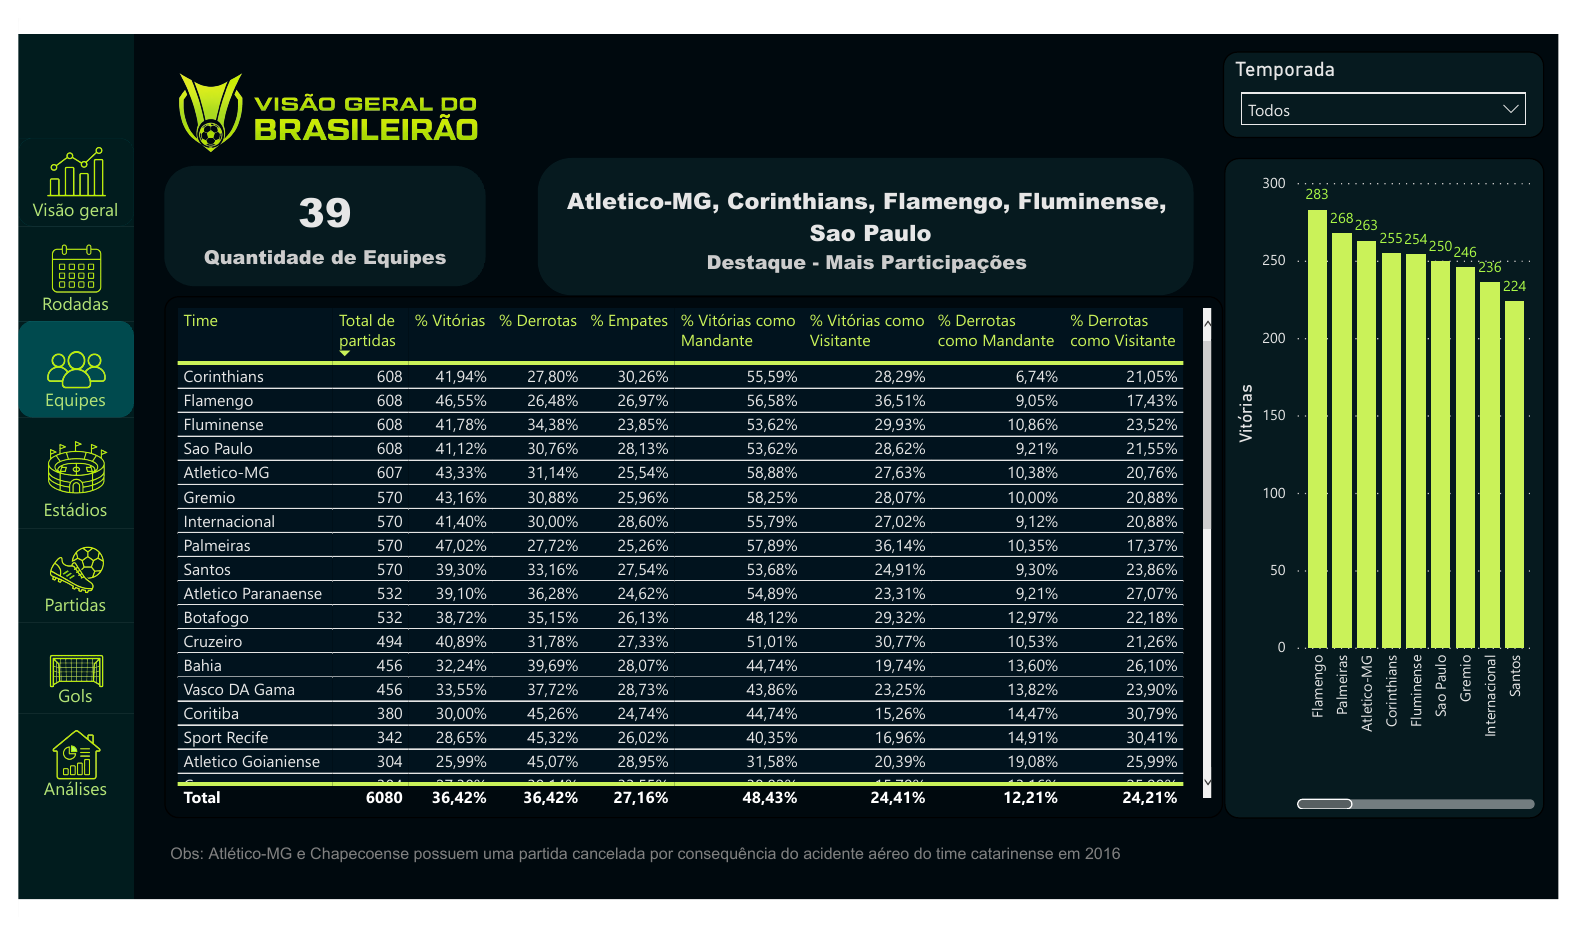

This screenshot's page, from the dashboard's own definition file:
{"tool":"powerbi","page":{"name":"Equipes","canvas":[1280,720],"ordinal":2},"visuals":[{"type":"shape","box":[0,0,95.8,719.3],"z":0},{"type":"shape","box":[95.8,0,1184.2,719.3],"z":1000},{"type":"actionButton","box":[0,86.2,95.8,73.4],"z":2000},{"type":"actionButton","box":[0,159.6,95.8,78.7],"z":3000},{"type":"actionButton","box":[0,238.3,95.8,79.8],"z":4000},{"type":"actionButton","box":[0,318.1,95.8,91.5],"z":5000},{"type":"actionButton","box":[0,409.6,95.8,78.7],"z":6000},{"type":"actionButton","box":[0,488.4,95.8,75.5],"z":7000},{"type":"actionButton","box":[0,563.9,95.8,77.7],"z":8000},{"type":"image","box":[105.8,10,300,114.9],"z":9000},{"type":"image","box":[12.8,79.8,70.2,70.2],"z":10000},{"type":"image","box":[12.8,159.6,70.2,70.2],"z":11000},{"type":"image","box":[12.8,563.9,70.2,70.2],"z":12000},{"type":"image","box":[12.8,324.5,70.2,70.2],"z":13000},{"type":"image","box":[12.8,409.6,70.2,70.2],"z":14000},{"type":"image","box":[12.6,494.1,70,70],"z":15000},{"type":"image","box":[12.8,243.7,70.2,70.2],"z":16000},{"type":"shape","box":[121.7,109.5,266.6,99.6],"z":17000},{"type":"card","fields":{"Values":["warehouse fact_team_match.Quantidade de Equipes"]},"box":[136.1,118.4,239,81.9],"z":18000},{"type":"slicer","title":"Temporada","fields":{"Values":["warehouse dim_season.season_key"]},"box":[1001.5,14.3,267.3,71.7],"z":19000},{"type":"tableEx","fields":{"Values":["warehouse dim_team.team_name","warehouse fact_team_match.Total de partidas","warehouse fact_team_match.% Vitórias","warehouse fact_team_match.% Derrotas","warehouse fact_team_match.% Empates","warehouse fact_team_match.% Vitórias como Mandante","warehouse fact_team_match.% Vitórias como Visitante","warehouse fact_team_match.% Derrotas como Mandante","warehouse fact_team_match.% Derrotas como Visitante"]},"box":[121.9,217.1,879.6,434.2],"z":20000},{"type":"card","fields":{"Values":["warehouse dim_team.Destaque - Mais Participações"]},"box":[432.1,102.4,544.8,113.7],"z":21000},{"type":"textbox","box":[121.9,666.6,879.6,27.6],"z":22000},{"type":"clusteredColumnChart","fields":{"Y":["warehouse fact_team_match.Vitórias"],"Category":["warehouse dim_team.team_name"]},"box":[1002.2,102.7,265.9,549.2],"z":23000}]}

Visuals, with their boxes on the page's 1280x720 design canvas (x1, y1, x2, y2). These are canvas units, not pixel positions in the 1577x935 screenshot, which may show the page scaled, cropped or inside an application window:
shape: region(0, 0, 96, 719)
shape: region(96, 0, 1280, 719)
actionButton: region(0, 86, 96, 160)
actionButton: region(0, 160, 96, 238)
actionButton: region(0, 238, 96, 318)
actionButton: region(0, 318, 96, 410)
actionButton: region(0, 410, 96, 488)
actionButton: region(0, 488, 96, 564)
actionButton: region(0, 564, 96, 642)
image: region(106, 10, 406, 125)
image: region(13, 80, 83, 150)
image: region(13, 160, 83, 230)
image: region(13, 564, 83, 634)
image: region(13, 324, 83, 395)
image: region(13, 410, 83, 480)
image: region(13, 494, 83, 564)
image: region(13, 244, 83, 314)
shape: region(122, 110, 388, 209)
card - warehouse fact_team_match.Quantidade de Equipes: region(136, 118, 375, 200)
"Temporada" slicer: region(1002, 14, 1269, 86)
tableEx - warehouse dim_team.team_name x warehouse fact_team_match.Total de partidas: region(122, 217, 1002, 651)
card - warehouse dim_team.Destaque - Mais Participações: region(432, 102, 977, 216)
textbox: region(122, 667, 1002, 694)
clusteredColumnChart - warehouse fact_team_match.Vitórias x warehouse dim_team.team_name: region(1002, 103, 1268, 652)
